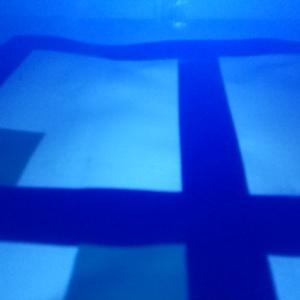bottom_left: (1, 197, 251, 300)
top_right: (1, 127, 45, 242)
